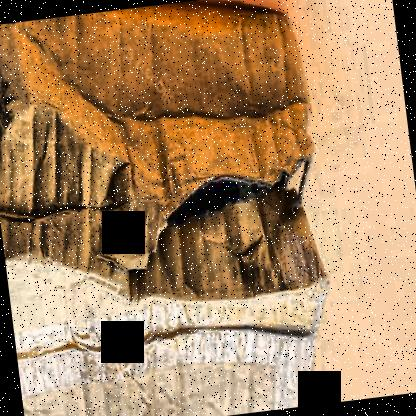defect parcel: (16, 61, 380, 383)
